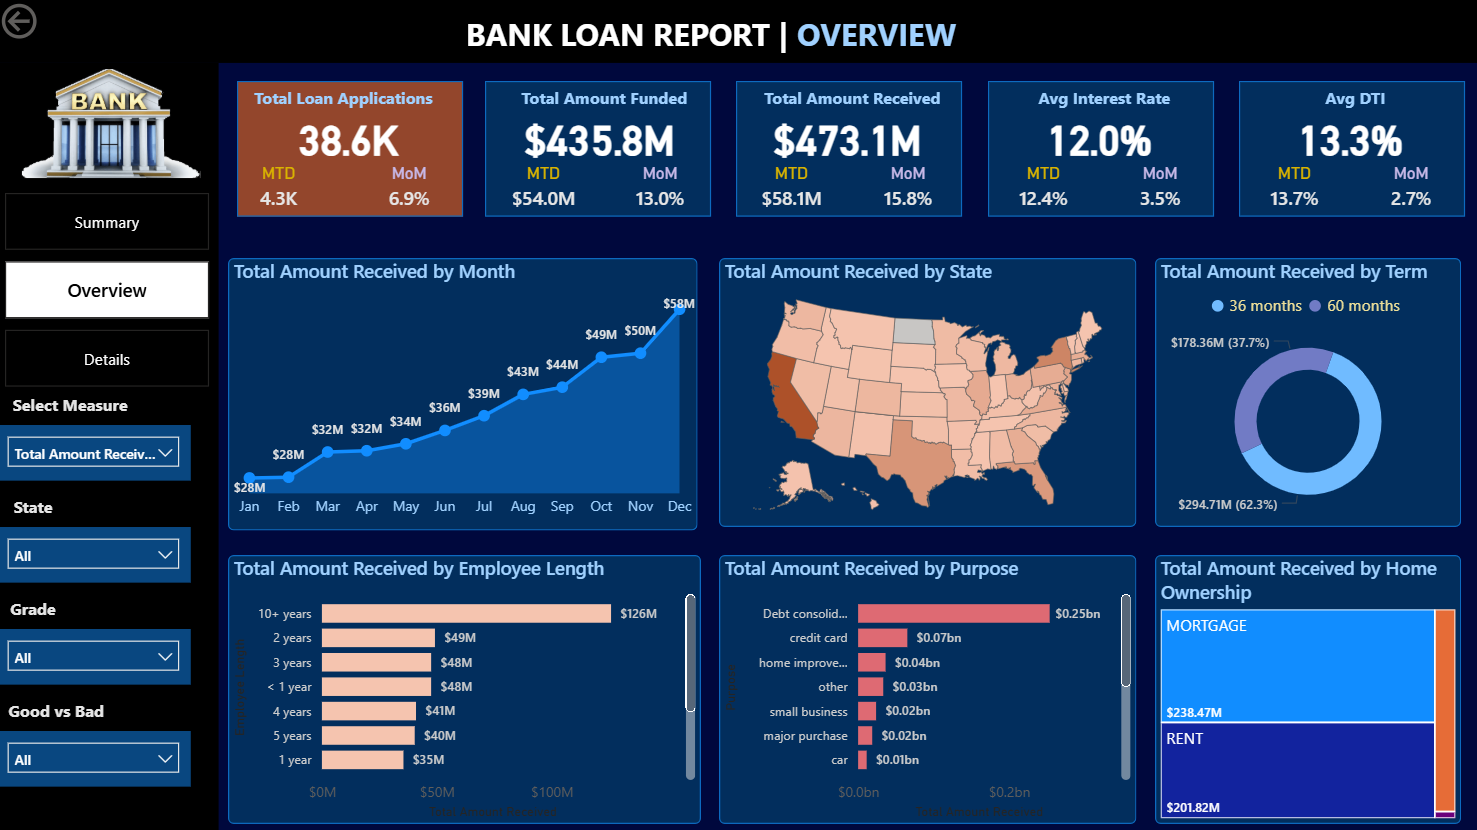

What the dashboard file says about the page in this screenshot:
{"tool":"powerbi","page":{"name":"Overview","canvas":[1280,720],"ordinal":1},"visuals":[{"type":"shape","box":[0,56,192,664],"z":0},{"type":"shape","box":[208,72,195,117],"z":0,"group":"g1"},{"type":"shape","box":[638.5,72,195,117],"z":0,"group":"g3"},{"type":"shape","box":[855.2,72,195,117],"z":0,"group":"g4"},{"type":"shape","box":[1072,72,195,117],"z":0,"group":"g5"},{"type":"card","fields":{"Values":["Date Table.Total Funded Amount"]},"box":[424,96,192,48],"z":0,"group":"g2"},{"type":"textbox","box":[440,72,168,32],"z":1000,"group":"g2"},{"type":"card","fields":{"Values":["Finance_loan.Total Loan Applications"]},"box":[208,96,192,48],"z":1000,"group":"g1"},{"type":"card","fields":{"Values":["Finance_loan.Total Amount Received"]},"box":[638.5,96,192,48],"z":1000,"group":"g3"},{"type":"card","fields":{"Values":["Date Table.Average Interest Rate"]},"box":[855.2,96,192,48],"z":1000,"group":"g4"},{"type":"card","fields":{"Values":["Date Table.Avg DTI"]},"box":[1072,96,192,48],"z":1000,"group":"g5"},{"type":"shape","box":[200,224,405,235],"z":1000},{"type":"shape","box":[0,0,1280,56],"z":2000},{"type":"textbox","box":[216,72,168,32],"z":2000,"group":"g1"},{"type":"textbox","box":[654.5,72,168,32],"z":2000,"group":"g3"},{"type":"textbox","box":[871.2,72,168,32],"z":2000,"group":"g4"},{"type":"textbox","box":[1088,72,168,32],"z":2000,"group":"g5"},{"type":"card","title":"MTD","fields":{"Values":["Date Table.MTD Funded Amount"]},"box":[432,144,80,40],"z":2000,"group":"g2"},{"type":"shape","box":[421.8,72,195,117],"z":3000},{"type":"card","title":"MTD","fields":{"Values":["Date Table.MTD Loan Application"]},"box":[216,144,56,40],"z":3000,"group":"g1"},{"type":"card","title":"MoM","fields":{"Values":["Date Table.MoM Total Amount Funded"]},"box":[528,144,88,40],"z":3000,"group":"g2"},{"type":"card","title":"MTD","fields":{"Values":["Date Table.MTD Total Amount Received"]},"box":[646.5,144,80,40],"z":3000,"group":"g3"},{"type":"card","title":"MTD","fields":{"Values":["Date Table.MTD Average Interest Rate"]},"box":[863.2,144,80,40],"z":3000,"group":"g4"},{"type":"card","title":"MTD","fields":{"Values":["Date Table.MTD Average DTI"]},"box":[1080,144,80,40],"z":3000,"group":"g5"},{"type":"textbox","box":[400,8,448,48],"z":4000},{"type":"card","title":"MoM","fields":{"Values":["Date Table.MoM Loan Application"]},"box":[312,144,88,40],"z":4000,"group":"g1"},{"type":"card","title":"MoM","fields":{"Values":["Date Table.MoM Total Amount Received"]},"box":[742.5,144,88,40],"z":4000,"group":"g3"},{"type":"card","title":"MoM","fields":{"Values":["Date Table.MoM Average Interest Rate"]},"box":[959.2,144,88,40],"z":4000,"group":"g4"},{"type":"card","title":"MoM","fields":{"Values":["Date Table.MoM Average DTI"]},"box":[1176,144,88,40],"z":4000,"group":"g5"},{"type":"group","id":"g1","title":"Group 1","box":[208,72,192,120],"z":5000},{"type":"group","id":"g2","title":"Group 2","box":[424,72,192,112],"z":6000},{"type":"group","id":"g3","title":"Group 3","box":[638.5,72,195,117],"z":7000},{"type":"group","id":"g4","title":"Group 4","box":[855.2,72,195,117],"z":8000},{"type":"group","id":"g5","title":"Group 4","box":[1072,72,192,120],"z":9000},{"type":"actionButton","box":[0,0,100,40],"z":10000},{"type":"slicer","fields":{"Values":["Finance_loan.address_state"]},"box":[0,456,168,48],"z":11000},{"type":"textbox","box":[0,424,64,32],"z":12000},{"type":"slicer","fields":{"Values":["Finance_loan.grade"]},"box":[0,544,168,48],"z":13000},{"type":"textbox","box":[0,512,64,32],"z":14000},{"type":"slicer","fields":{"Values":["Finance_loan.purpose"]},"box":[0,632,168,48],"z":15000},{"type":"textbox","box":[0,600,104,32],"z":16000},{"type":"areaChart","fields":{"Y":["Finance_loan.Total Amount Received"],"Category":["Date Table.Month"]},"box":[200,224,408,232],"z":17000},{"type":"slicer","fields":{"Values":["Select Measure.Select Measure"]},"box":[0,368,168,48],"z":18000},{"type":"textbox","box":[0,336,128,32],"z":19000},{"type":"shape","box":[624,224,360,232],"z":20000},{"type":"shapeMap","fields":{"Value":["Finance_loan.Total Amount Received"],"Category":["Finance_loan.address_state"]},"box":[624,224,360,232],"z":21000},{"type":"shape","box":[1000,224,264,232],"z":22000},{"type":"donutChart","fields":{"Y":["Finance_loan.Total Amount Received"],"Category":["Finance_loan.term"]},"box":[1000,224,264,232],"z":23000},{"type":"shape","box":[200,480,408,232],"z":24000},{"type":"barChart","fields":{"Y":["Finance_loan.Total Amount Received"],"Category":["Finance_loan.emp_length"]},"box":[200,480,408,232],"z":25000},{"type":"shape","box":[624,480,360,232],"z":26000},{"type":"barChart","fields":{"Y":["Finance_loan.Total Amount Received"],"Category":["Finance_loan.purpose"]},"box":[624,480,360,232],"z":27000},{"type":"shape","box":[1000,480,264,232],"z":28000},{"type":"treemap","fields":{"Values":["Finance_loan.Total Amount Received"],"Group":["Finance_loan.home_ownership"]},"box":[1000,480,264,232],"z":29000},{"type":"pageNavigator","box":[8,168,176,168],"z":30000},{"type":"image","box":[16,48,160,120],"z":31000}]}

Visuals, with their boxes on the page's 1280x720 design canvas (x1, y1, x2, y2). These are canvas units, not pixel positions in the 1477x830 screenshot, which may show the page scaled, cropped or inside an application window:
shape: x1=0 y1=56 x2=192 y2=720
shape: x1=208 y1=72 x2=403 y2=189
shape: x1=638 y1=72 x2=834 y2=189
shape: x1=855 y1=72 x2=1050 y2=189
shape: x1=1072 y1=72 x2=1267 y2=189
card - Date Table.Total Funded Amount: x1=424 y1=96 x2=616 y2=144
textbox: x1=440 y1=72 x2=608 y2=104
card - Finance_loan.Total Loan Applications: x1=208 y1=96 x2=400 y2=144
card - Finance_loan.Total Amount Received: x1=638 y1=96 x2=830 y2=144
card - Date Table.Average Interest Rate: x1=855 y1=96 x2=1047 y2=144
card - Date Table.Avg DTI: x1=1072 y1=96 x2=1264 y2=144
shape: x1=200 y1=224 x2=605 y2=459
shape: x1=0 y1=0 x2=1280 y2=56
textbox: x1=216 y1=72 x2=384 y2=104
textbox: x1=654 y1=72 x2=822 y2=104
textbox: x1=871 y1=72 x2=1039 y2=104
textbox: x1=1088 y1=72 x2=1256 y2=104
"MTD" card: x1=432 y1=144 x2=512 y2=184
shape: x1=422 y1=72 x2=617 y2=189
"MTD" card: x1=216 y1=144 x2=272 y2=184
"MoM" card: x1=528 y1=144 x2=616 y2=184
"MTD" card: x1=646 y1=144 x2=726 y2=184
"MTD" card: x1=863 y1=144 x2=943 y2=184
"MTD" card: x1=1080 y1=144 x2=1160 y2=184
textbox: x1=400 y1=8 x2=848 y2=56
"MoM" card: x1=312 y1=144 x2=400 y2=184
"MoM" card: x1=742 y1=144 x2=830 y2=184
"MoM" card: x1=959 y1=144 x2=1047 y2=184
"MoM" card: x1=1176 y1=144 x2=1264 y2=184
"Group 1" group: x1=208 y1=72 x2=400 y2=192
"Group 2" group: x1=424 y1=72 x2=616 y2=184
"Group 3" group: x1=638 y1=72 x2=834 y2=189
"Group 4" group: x1=855 y1=72 x2=1050 y2=189
"Group 4" group: x1=1072 y1=72 x2=1264 y2=192
actionButton: x1=0 y1=0 x2=100 y2=40
slicer - Finance_loan.address_state: x1=0 y1=456 x2=168 y2=504
textbox: x1=0 y1=424 x2=64 y2=456
slicer - Finance_loan.grade: x1=0 y1=544 x2=168 y2=592
textbox: x1=0 y1=512 x2=64 y2=544
slicer - Finance_loan.purpose: x1=0 y1=632 x2=168 y2=680
textbox: x1=0 y1=600 x2=104 y2=632
areaChart - Finance_loan.Total Amount Received x Date Table.Month: x1=200 y1=224 x2=608 y2=456
slicer - Select Measure.Select Measure: x1=0 y1=368 x2=168 y2=416
textbox: x1=0 y1=336 x2=128 y2=368
shape: x1=624 y1=224 x2=984 y2=456
shapeMap - Finance_loan.Total Amount Received x Finance_loan.address_state: x1=624 y1=224 x2=984 y2=456
shape: x1=1000 y1=224 x2=1264 y2=456
donutChart - Finance_loan.Total Amount Received x Finance_loan.term: x1=1000 y1=224 x2=1264 y2=456
shape: x1=200 y1=480 x2=608 y2=712
barChart - Finance_loan.Total Amount Received x Finance_loan.emp_length: x1=200 y1=480 x2=608 y2=712
shape: x1=624 y1=480 x2=984 y2=712
barChart - Finance_loan.Total Amount Received x Finance_loan.purpose: x1=624 y1=480 x2=984 y2=712
shape: x1=1000 y1=480 x2=1264 y2=712
treemap - Finance_loan.Total Amount Received x Finance_loan.home_ownership: x1=1000 y1=480 x2=1264 y2=712
pageNavigator: x1=8 y1=168 x2=184 y2=336
image: x1=16 y1=48 x2=176 y2=168
